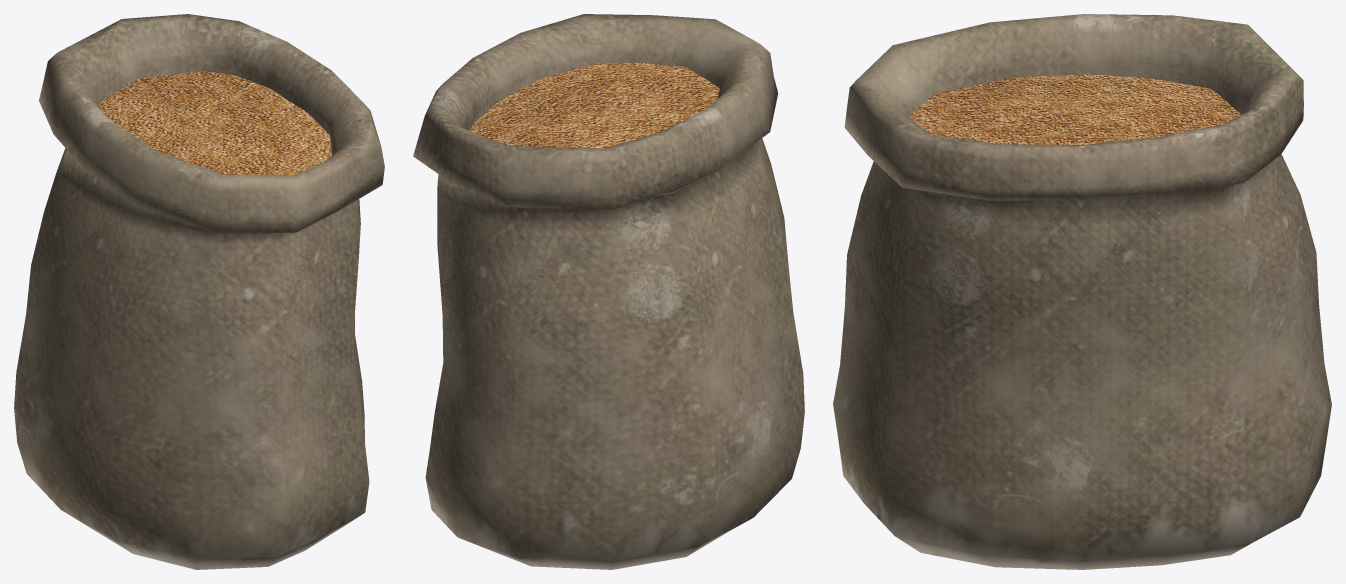
The model's file is grain.glb.
3 renders of one model, left to right at view 1: azimuth 30°, elevation 25°; view 2: azimuth 150°, elevation 25°; view 3: azimuth 270°, elevation 25°, orthographic. The views are drawn at different scales.
Visible parts, largest first — view 1: Sack2; view 2: Sack2; view 3: Sack2.
Boxes of the visible parts, x1,y1,x2,y2 form: Sack2: [14, 14, 384, 569]; Sack2: [413, 14, 804, 569]; Sack2: [833, 14, 1331, 569].
Size of the model in its own units: 1.02 by 1.36 by 1.33.
Materials: 2 (2 with a texture image).
